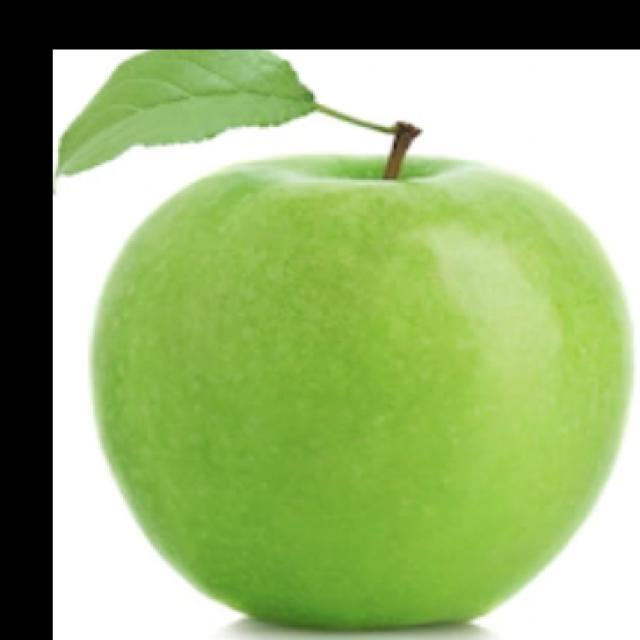Fresh Apple: (129, 158, 636, 640)
